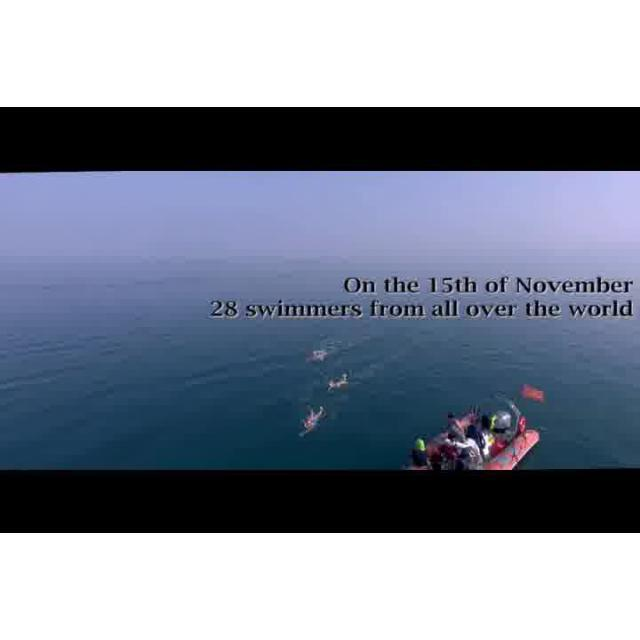human: (297, 406, 325, 438), (326, 372, 348, 396)
